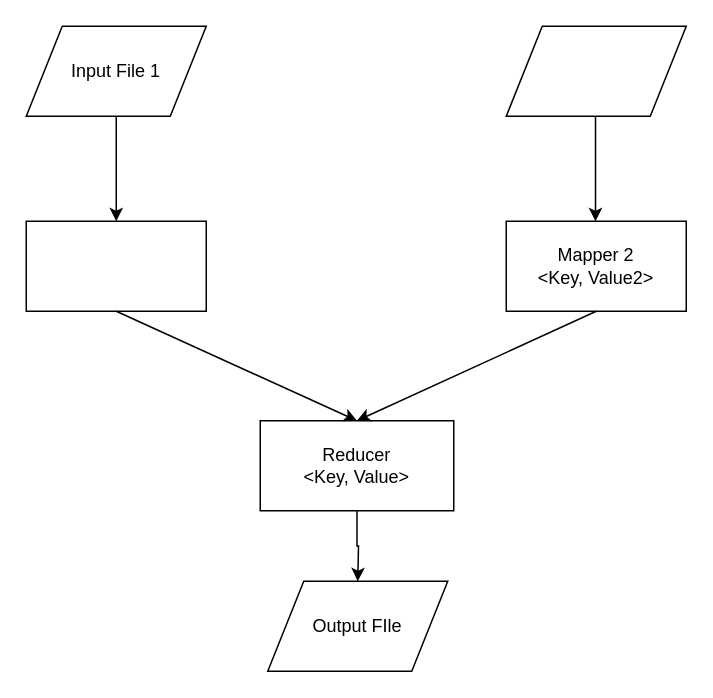
Image size: 713x698. Some labels were removed from this diagram. Here are the shapes that lost their labels. From the top down, the centre of each, then its label:
pixel 595 70: Input File 2
pixel 115 265: Mapper 1 <Key, Value1>
